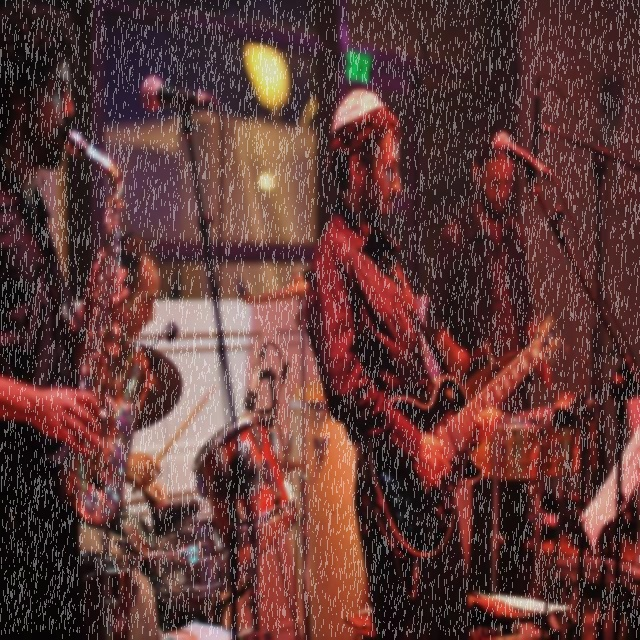pessoa: (305, 88, 505, 640), (0, 2, 133, 640), (426, 134, 538, 636), (70, 232, 172, 640)
